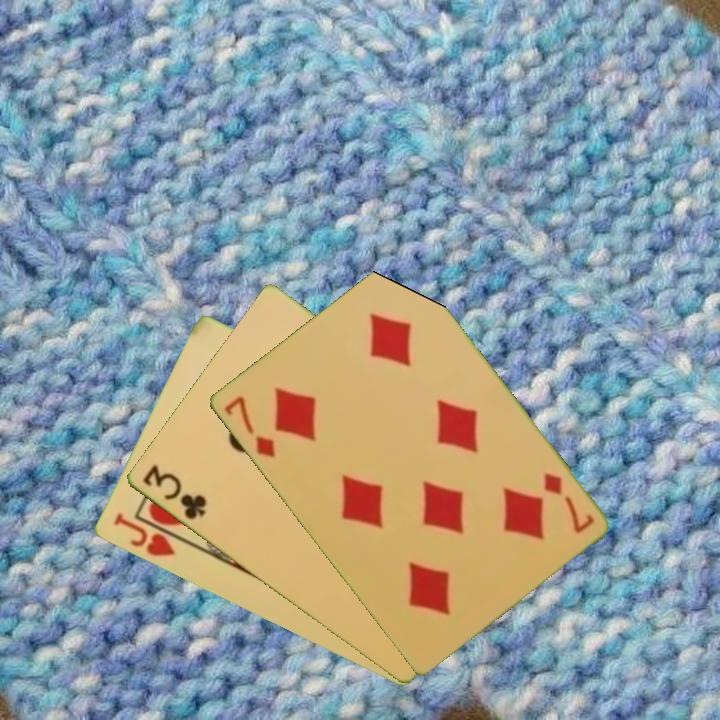3c: (138, 461, 209, 523)
7d: (219, 392, 278, 461), (539, 468, 597, 536)
Jh: (109, 509, 191, 560)
